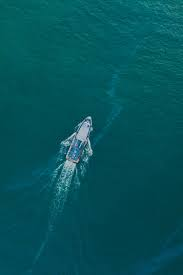boat: (63, 114, 96, 164)
